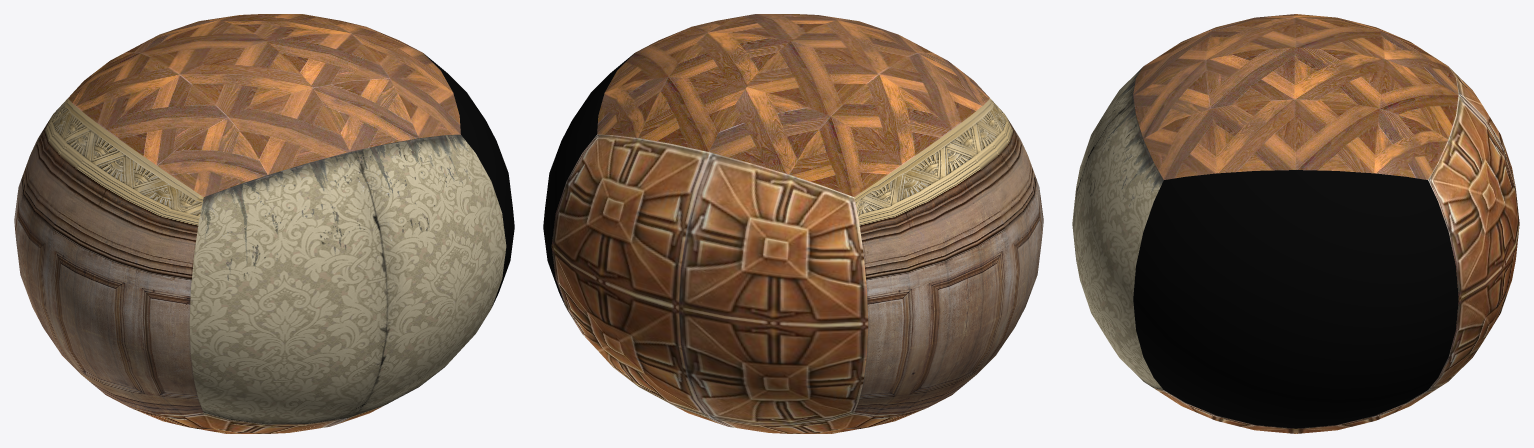
Rendered from cubediocane.FBX.
The picture shows the model from 3 angles, left to right: view 1: azimuth 30°, elevation 25°; view 2: azimuth 150°, elevation 25°; view 3: azimuth 270°, elevation 25°; orthographic projection. The views are drawn at different scales.
Parts seen in each view (by area): view 1: Box001; view 2: Box001; view 3: Box001.
Part boxes in pixels (<box>): Box001: <box>14,14,514,433</box>; Box001: <box>543,14,1043,433</box>; Box001: <box>1072,14,1519,433</box>.
Bounding box in the file's own units: 0.3581 × 0.2867 × 0.3271.
Materials: 5 (4 with a texture image).
